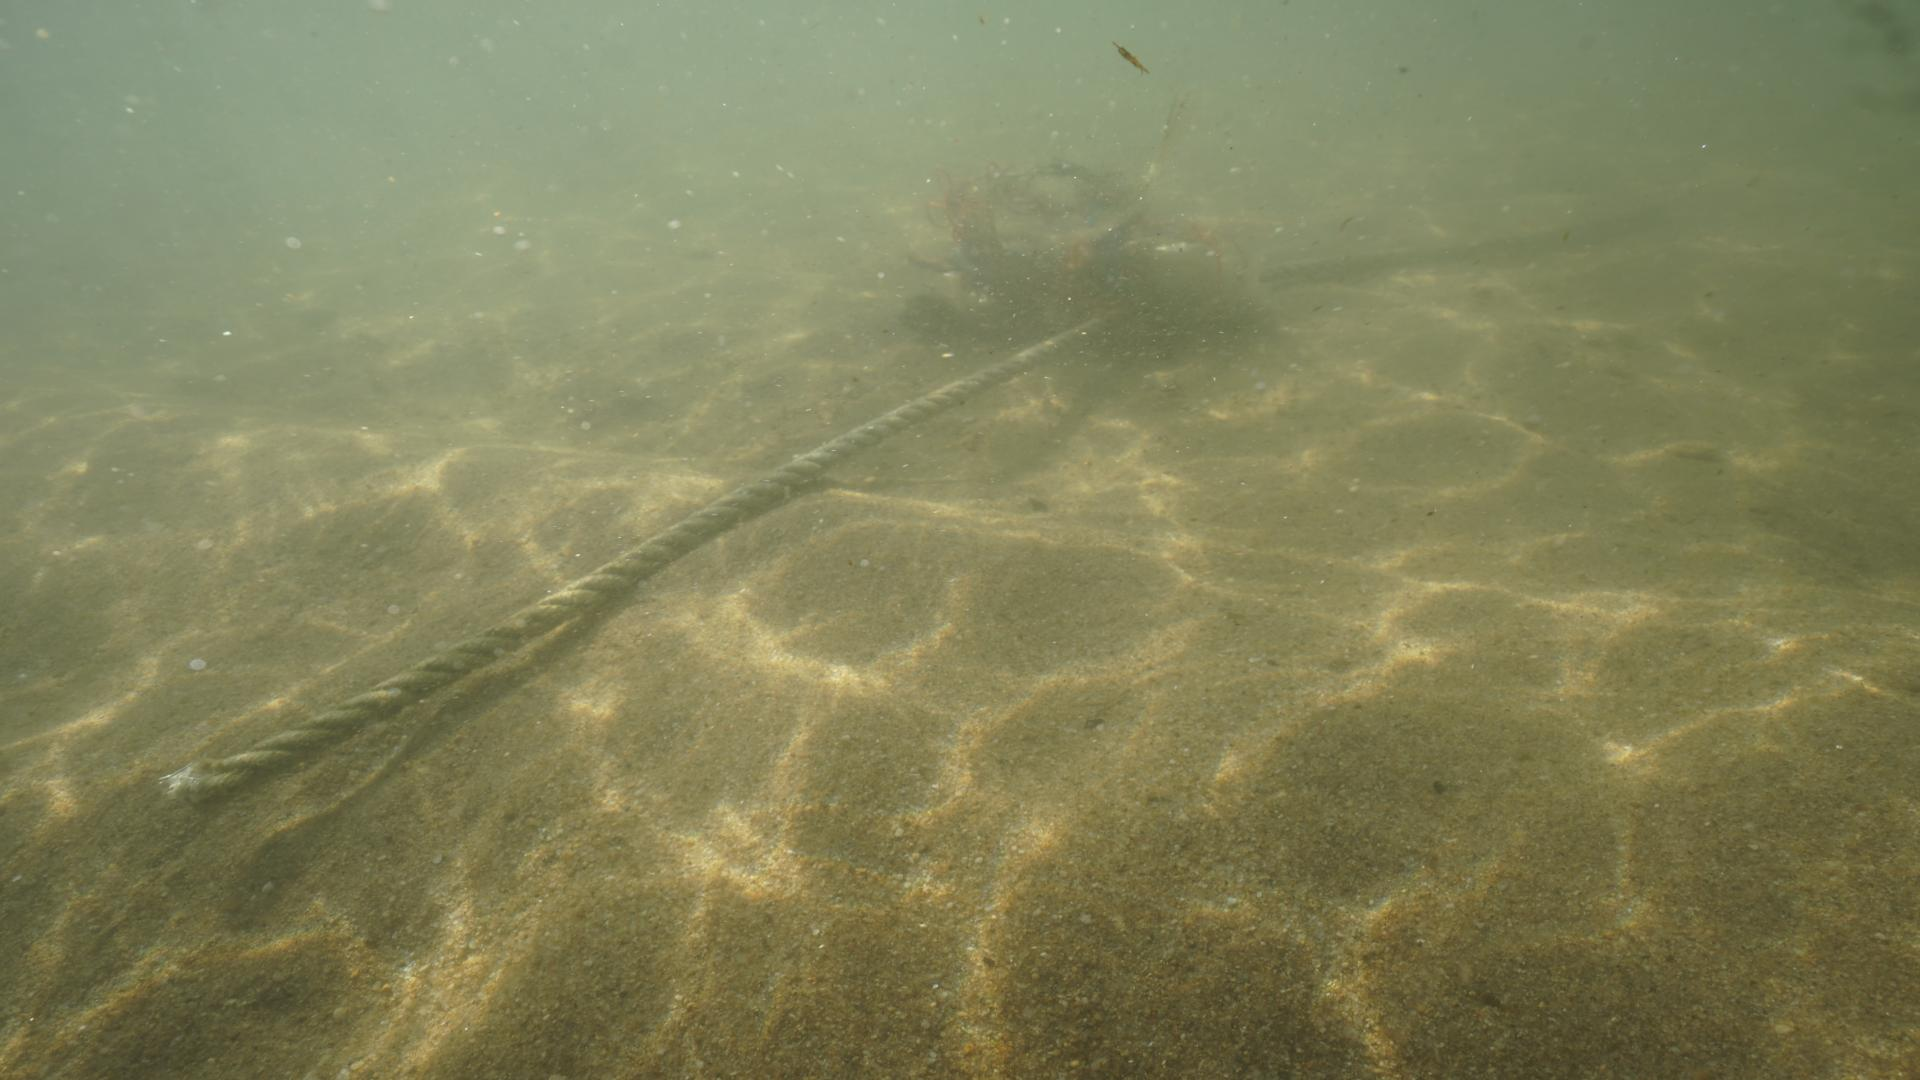rope: (164, 182, 1683, 819)
